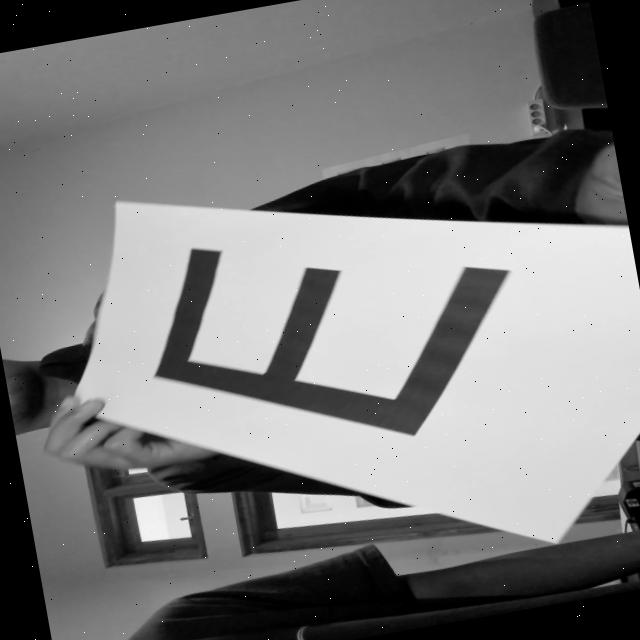e: (113, 180, 569, 488)
